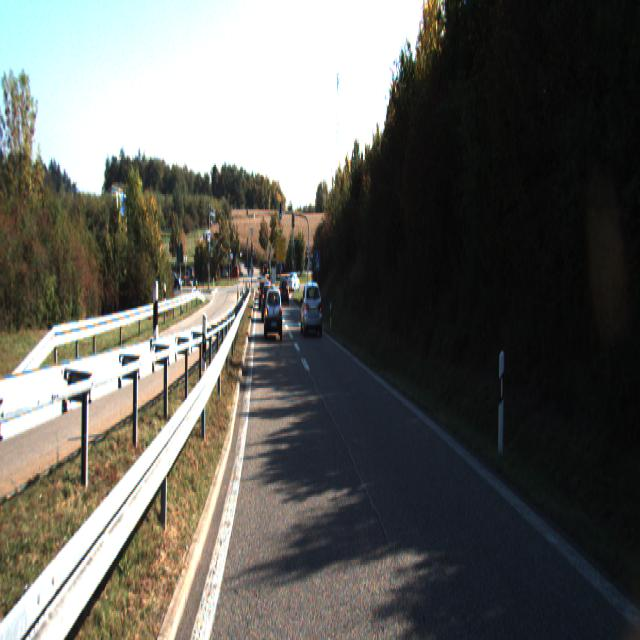Car: (300, 278, 322, 334), (264, 285, 284, 338), (261, 282, 275, 322)
